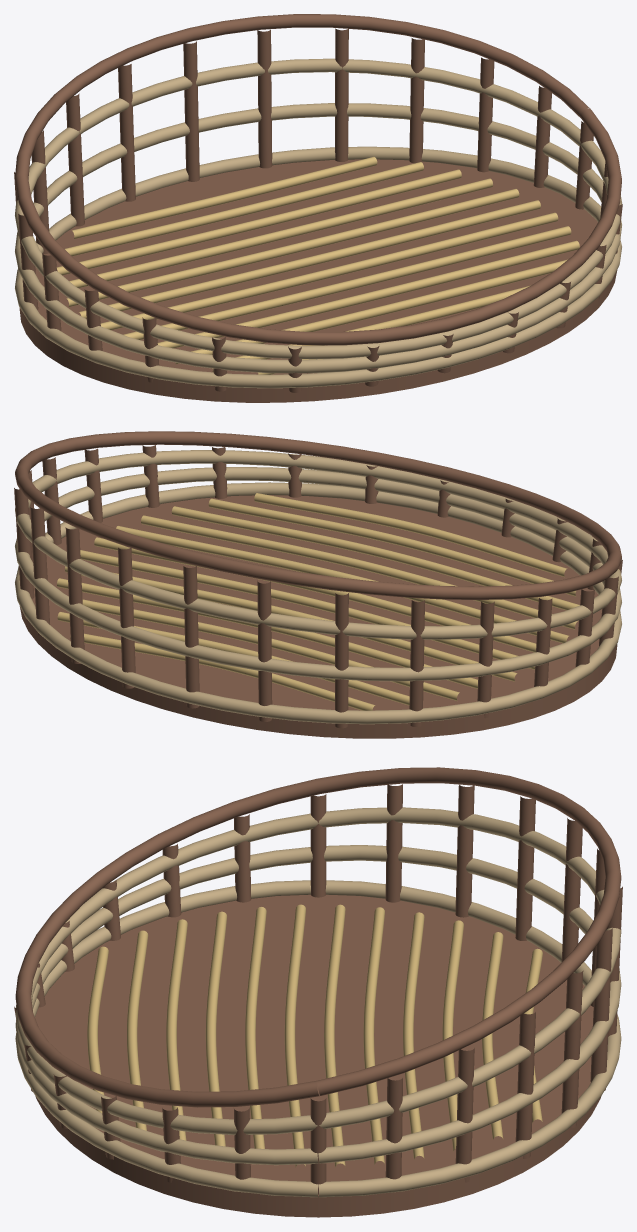
The model's file is griffin-airmail-roost-and-posthouse-nesting-bowl-68894d3e__30501.glb.
3 views of the same model, one above another, from view 1: azimuth 30°, elevation 25°; view 2: azimuth 150°, elevation 25°; view 3: azimuth 270°, elevation 25° (orthographic). The views are drawn at different scales.
Visible parts, largest first — view 1: nesting-bowl; view 2: nesting-bowl; view 3: nesting-bowl.
Boxes of the visible parts, x1,y1,x2,y2 form: nesting-bowl: (14, 14, 622, 402); nesting-bowl: (14, 431, 622, 738); nesting-bowl: (14, 767, 622, 1217).
Bounding box in the file's own units: 1.68 × 0.4878 × 1.39.
